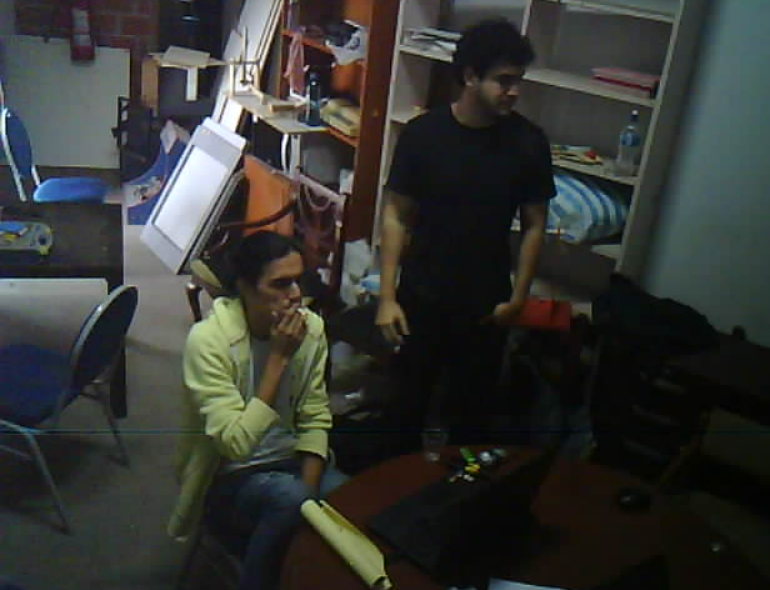person: (135, 197, 358, 590), (368, 0, 568, 437)
